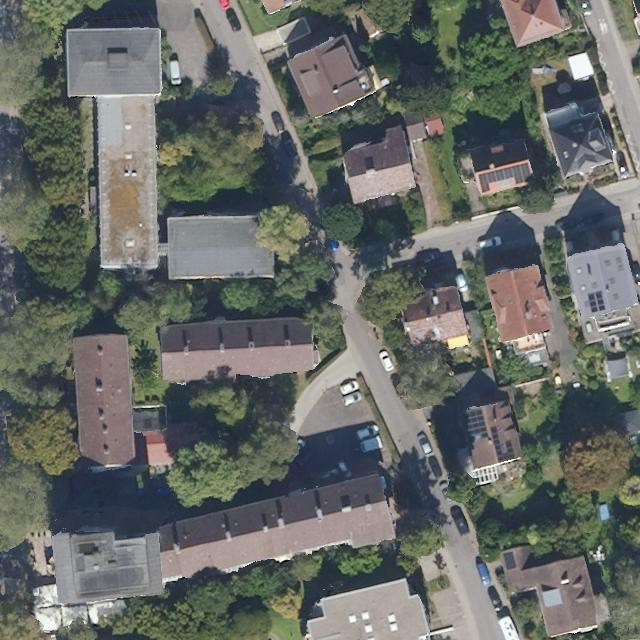PV: (476, 160, 533, 194), (490, 425, 516, 463), (463, 408, 489, 440), (587, 290, 607, 314), (502, 550, 518, 571)
